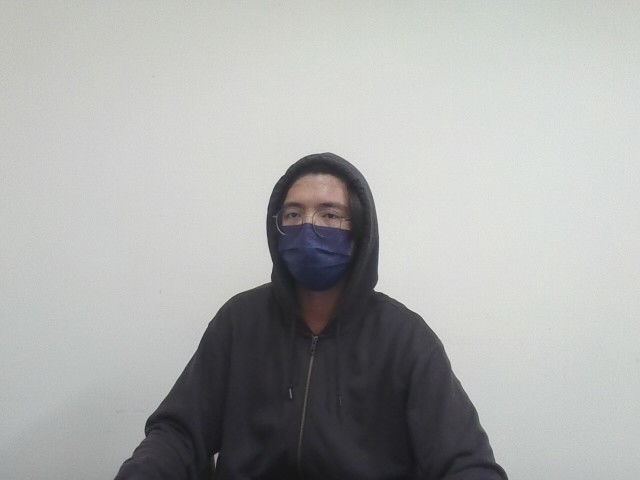No_Helmet: (262, 148, 381, 295)
person: (69, 129, 554, 480)
